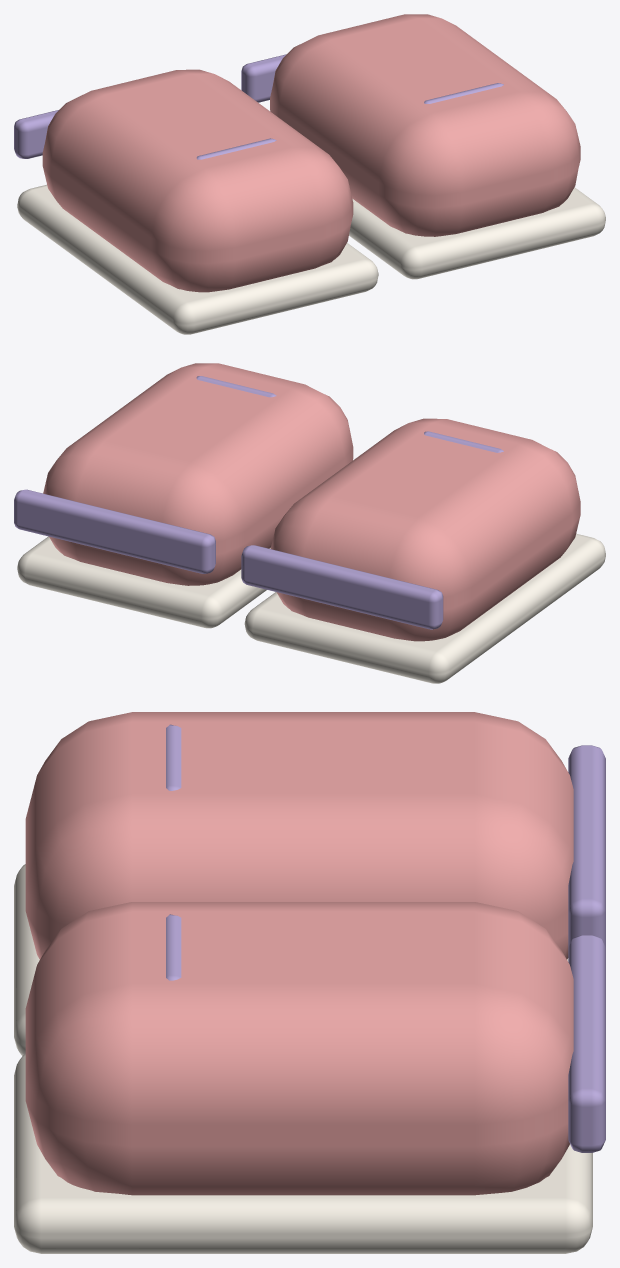
File: cute_sneakers.glb
3 renders of one model, top to bottom at view 1: azimuth 30°, elevation 25°; view 2: azimuth 150°, elevation 25°; view 3: azimuth 270°, elevation 25°, orthographic. The views are drawn at different scales.
Visible parts, largest first — view 1: cute_sneakers_LegL, cute_sneakers_LegR; view 2: cute_sneakers_LegL, cute_sneakers_LegR; view 3: cute_sneakers_LegR, cute_sneakers_LegL.
Part boxes in pixels (<box>): cute_sneakers_LegL: <box>14,69,378,334</box>; cute_sneakers_LegR: <box>241,14,605,279</box>; cute_sneakers_LegL: <box>241,418,605,683</box>; cute_sneakers_LegR: <box>14,363,353,628</box>; cute_sneakers_LegR: <box>14,902,605,1253</box>; cute_sneakers_LegL: <box>14,712,605,1055</box>.
Bounding box in the file's own units: 0.36 × 0.1087 × 0.2505.
